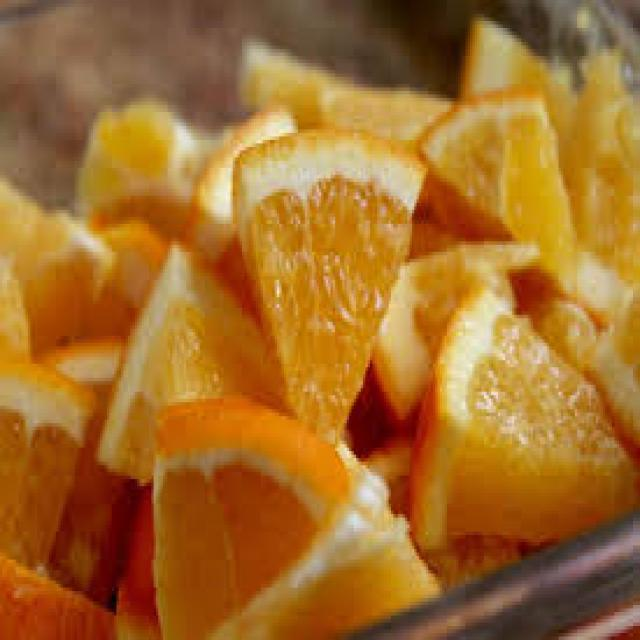orange: (226, 120, 416, 446)
